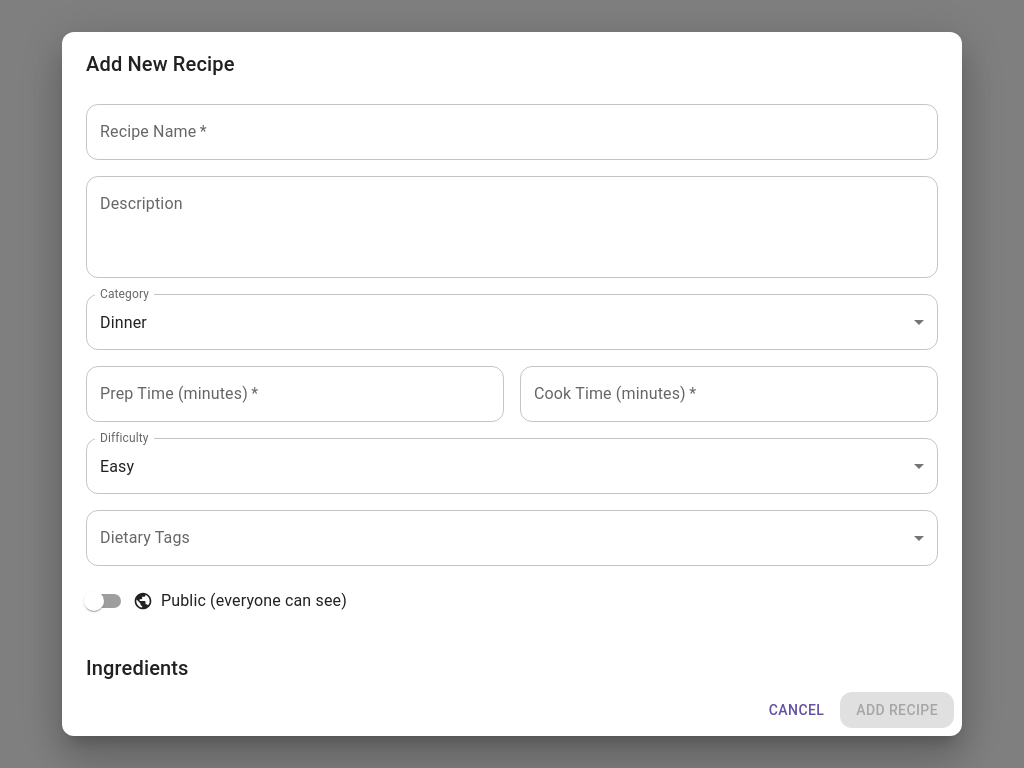
Test: AddRecipeModal › Form Input Handling › updates difficulty selection
# Click on the MUI Select showing "Easy" (default value)
Click the dropdown "Easy": (117, 466) [100,456,134,476]
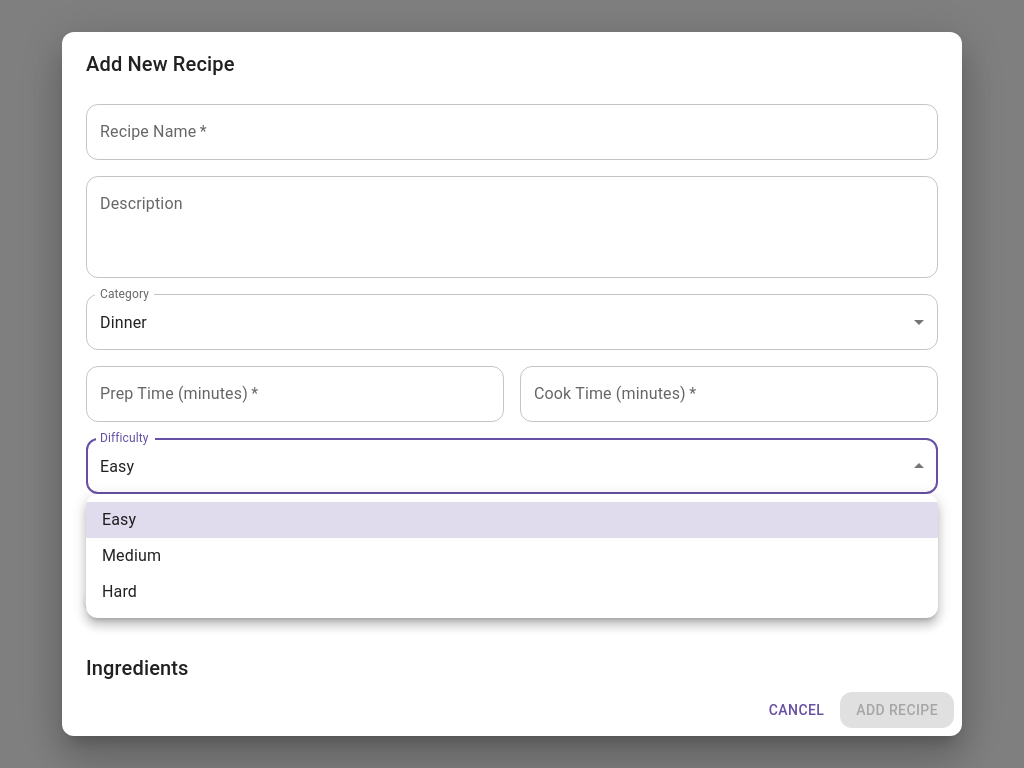
Click the option "Hard": (120, 592) [102,582,137,601]
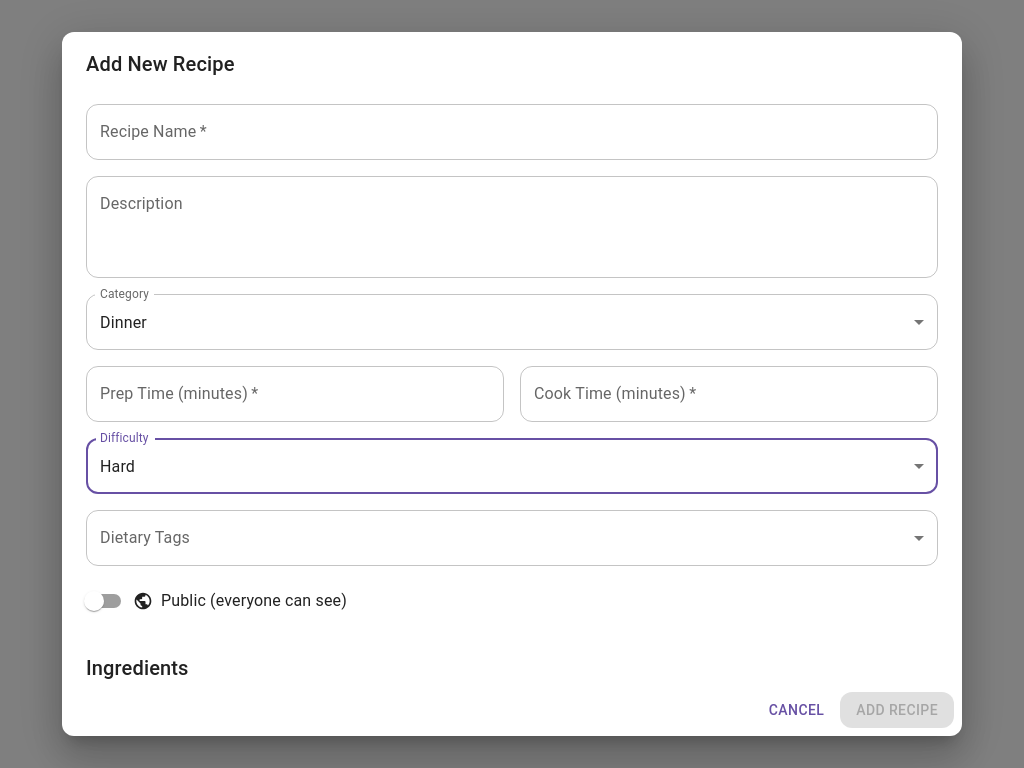
Now the dropdown "Hard" is shown, box [100,456,135,476]
